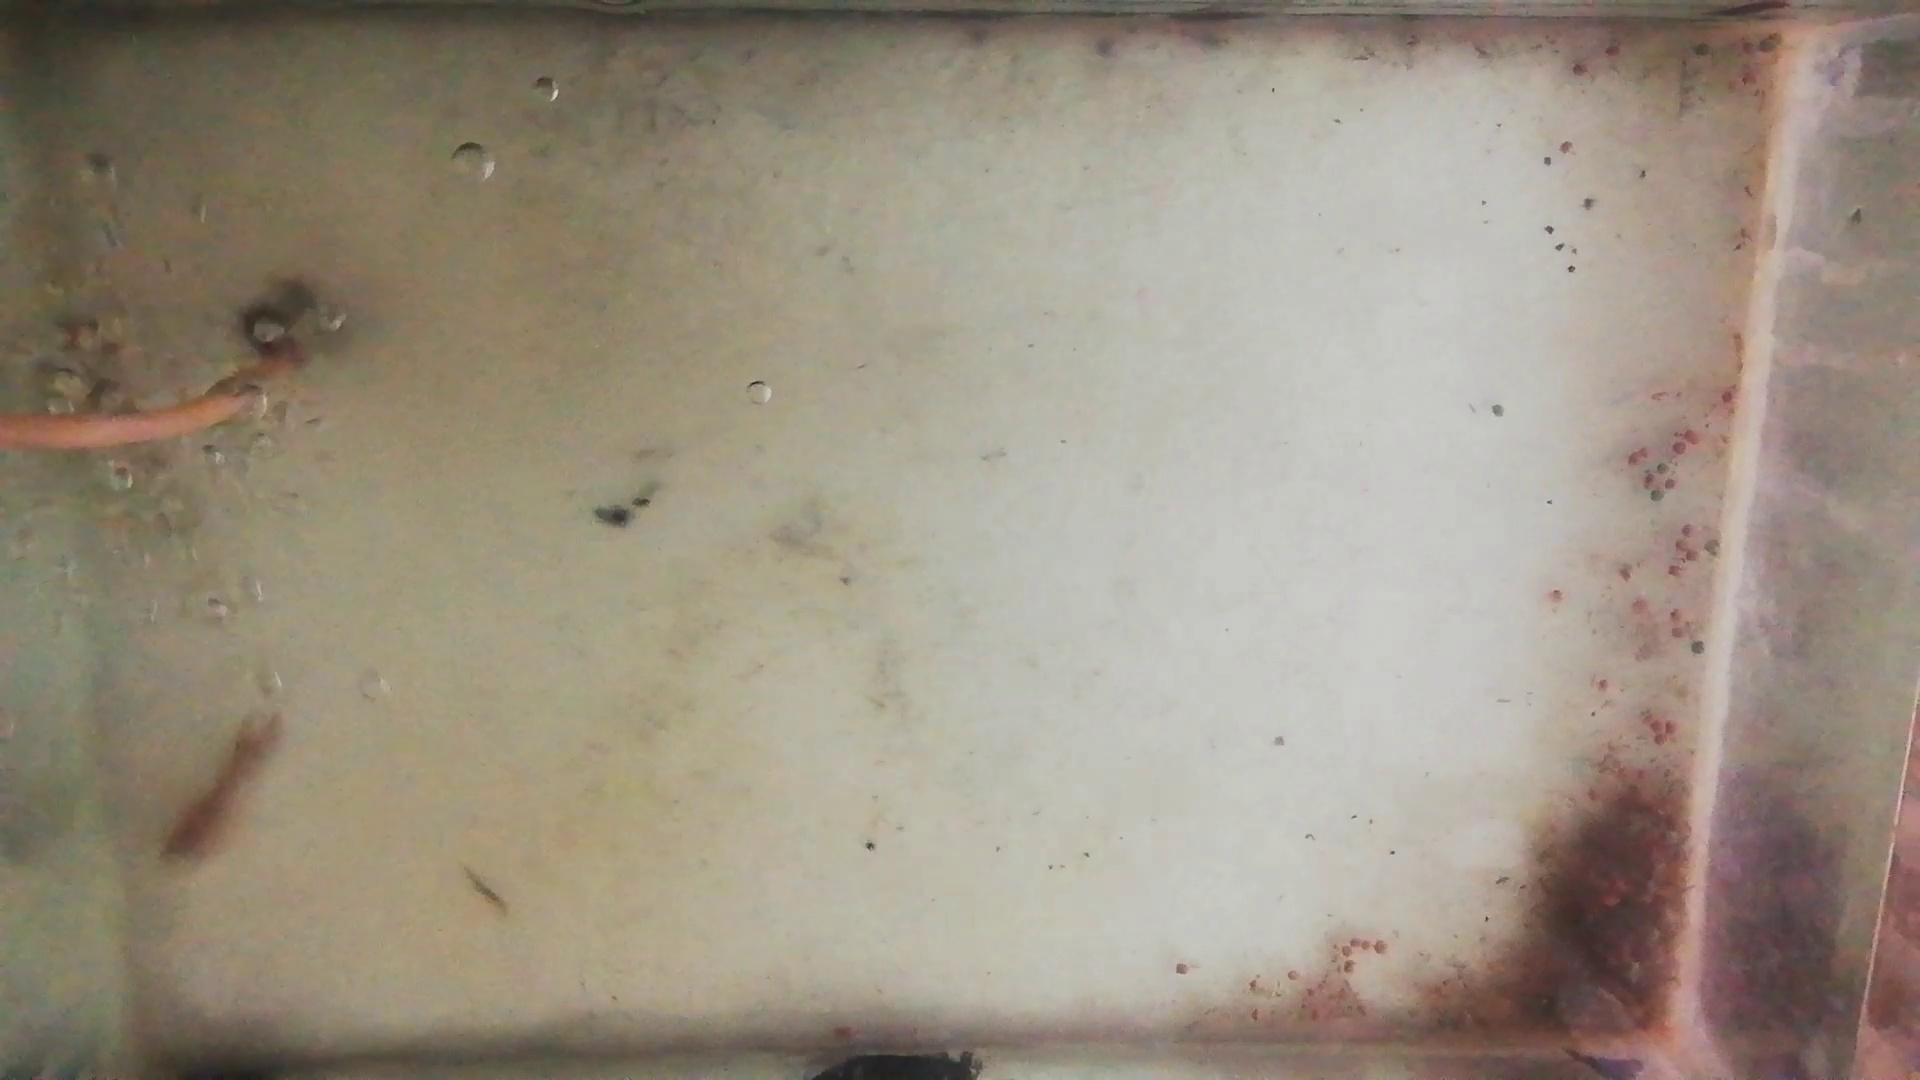fish: (158, 715, 290, 865), (40, 316, 138, 415)
